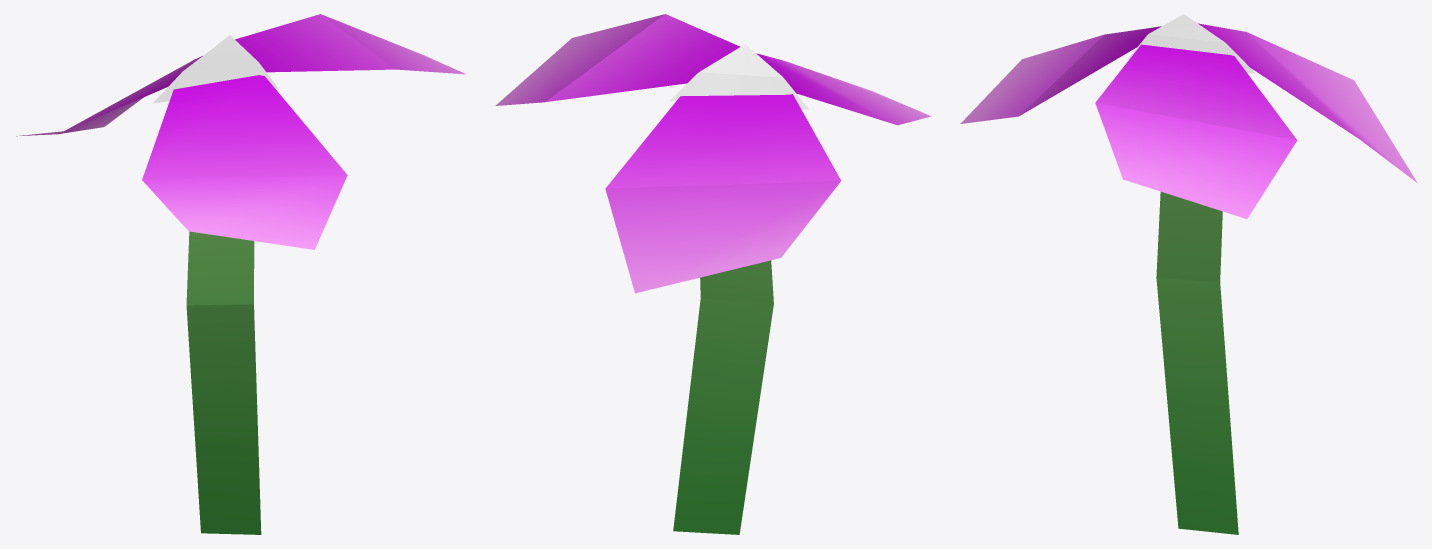
The model's file is flower6.fbx.
The picture shows the model from 3 angles, left to right: view 1: azimuth 30°, elevation 25°; view 2: azimuth 150°, elevation 25°; view 3: azimuth 270°, elevation 25°; orthographic projection. The views are drawn at different scales.
Parts seen in each view (by area): view 1: flower5; view 2: flower5; view 3: flower5.
Boxes of the visible parts, bbox=[...] form: flower5: bbox=[16, 14, 465, 534]; flower5: bbox=[495, 14, 931, 534]; flower5: bbox=[960, 14, 1417, 534].
Size of the model in its own units: 19.4 by 24.79 by 21.17.
